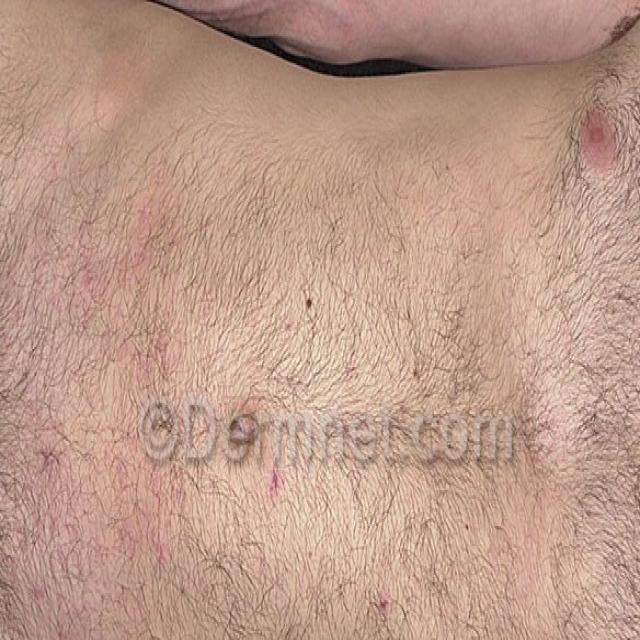Viral Infections: (8, 166, 570, 640)
